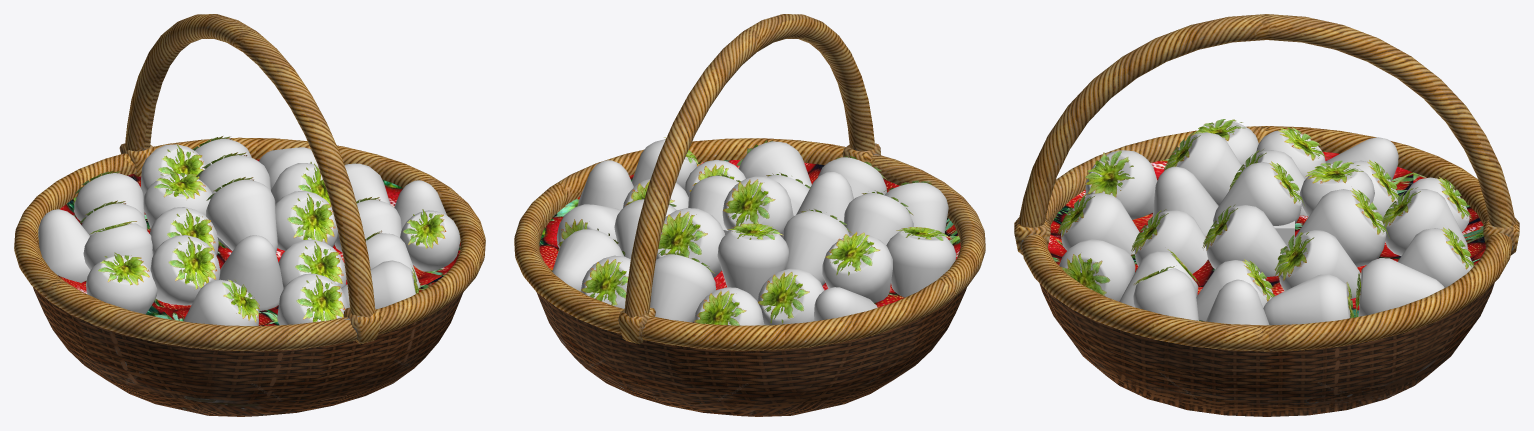
File: scenestrw.dae
The picture shows the model from 3 angles, left to right: view 1: azimuth 30°, elevation 25°; view 2: azimuth 150°, elevation 25°; view 3: azimuth 270°, elevation 25°; orthographic projection. The views are drawn at different scales.
Visible parts, largest first — view 1: Mesh_2, Mesh_4, Mesh_0, Mesh_3, Mesh_1; view 2: Mesh_2, Mesh_4, Mesh_0, Mesh_3, Mesh_1; view 3: Mesh_2, Mesh_4, Mesh_0, Mesh_3, Mesh_1.
Part boxes in pixels (left/top/right/bottom): Mesh_2: left=38, top=138, right=460, bottom=325; Mesh_4: left=14, top=14, right=485, bottom=351; Mesh_0: left=33, top=287, right=462, bottom=416; Mesh_3: left=75, top=136, right=446, bottom=322; Mesh_1: left=58, top=159, right=460, bottom=326; Mesh_2: left=552, top=139, right=955, bottom=325; Mesh_4: left=514, top=14, right=985, bottom=350; Mesh_0: left=536, top=287, right=966, bottom=416; Mesh_3: left=557, top=137, right=951, bottom=325; Mesh_1: left=539, top=160, right=960, bottom=325; Mesh_2: left=1059, top=121, right=1473, bottom=325; Mesh_4: left=1014, top=14, right=1519, bottom=351; Mesh_0: left=1039, top=158, right=1494, bottom=416; Mesh_3: left=1057, top=119, right=1474, bottom=318; Mesh_1: left=1048, top=152, right=1485, bottom=321.
Size of the model in its own units: 17.73 by 18.16 by 13.85.
